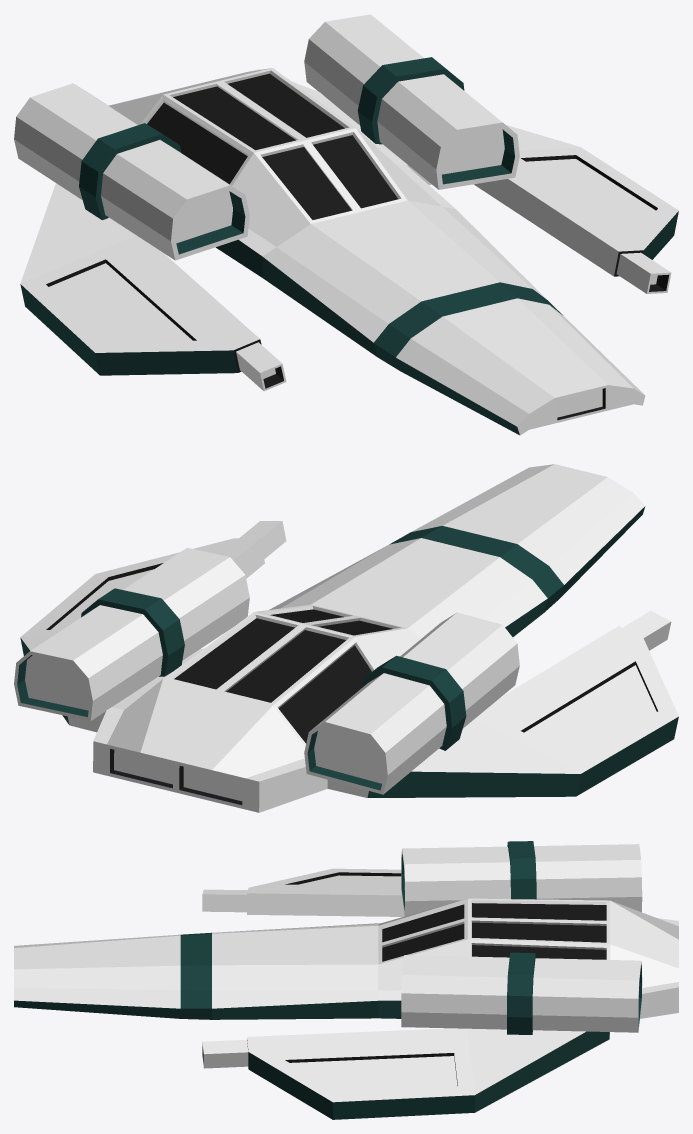
The model's file is Spaceship.glb.
3 views of the same model, one above another, from view 1: azimuth 30°, elevation 25°; view 2: azimuth 150°, elevation 25°; view 3: azimuth 270°, elevation 25° (orthographic). The views are drawn at different scales.
Visible parts, largest first — view 1: spaceship_001; view 2: spaceship_001; view 3: spaceship_001.
Part boxes in pixels (x1,y1,x2,y2): spaceship_001: (14, 14, 678, 435); spaceship_001: (14, 464, 678, 812); spaceship_001: (14, 841, 678, 1119).
Size of the model in its own units: 6.85 by 1.36 by 8.25.
Materials: 1 (1 with a texture image).
